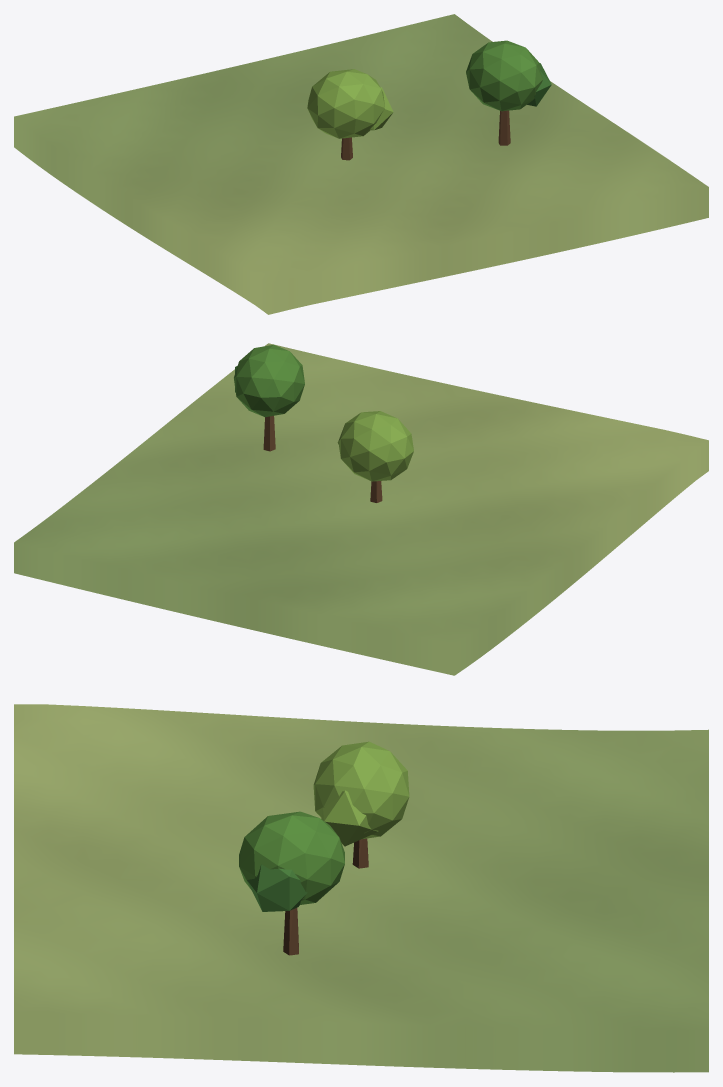
3 renders of one model, top to bottom at view 1: azimuth 30°, elevation 25°; view 2: azimuth 150°, elevation 25°; view 3: azimuth 270°, elevation 25°, orthographic. The views are drawn at different scales.
Visible parts, largest first — view 1: terrain, scenery; view 2: terrain, scenery; view 3: terrain, scenery.
Part boxes in pixels (x1,y1,x2,y2): terrain: [14, 14, 708, 314]; scenery: [307, 40, 551, 160]; terrain: [14, 343, 708, 675]; scenery: [234, 344, 413, 502]; terrain: [14, 704, 708, 1072]; scenery: [239, 741, 409, 955].
Bounding box in the file's own units: 30 × 8.98 × 30.
